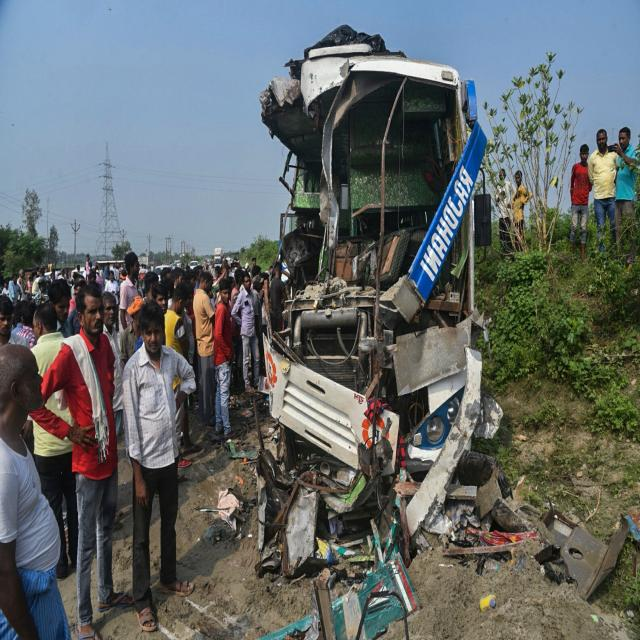accident: (256, 28, 539, 639)
